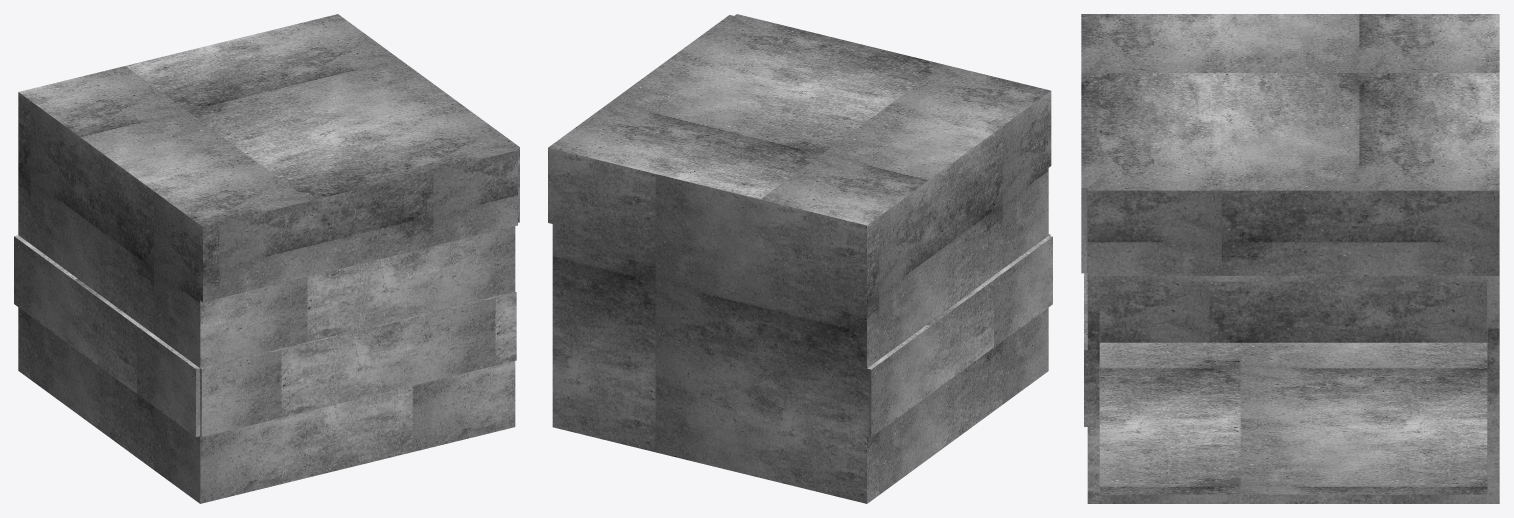
The model's file is subway.glb.
3 views of the same model, side by side, from view 1: azimuth 30°, elevation 25°; view 2: azimuth 150°, elevation 25°; view 3: azimuth 270°, elevation 25° (orthographic). The views are drawn at different scales.
Parts seen in each view (by area): view 1: Subway; view 2: Subway; view 3: Subway.
Boxes of the visible parts, bbox=[...] form: Subway: bbox=[14, 14, 519, 503]; Subway: bbox=[548, 14, 1052, 503]; Subway: bbox=[1081, 14, 1499, 503].
Bounding box in the file's own units: 3.6 × 2.96 × 3.55.
1 material, 1 textured.
